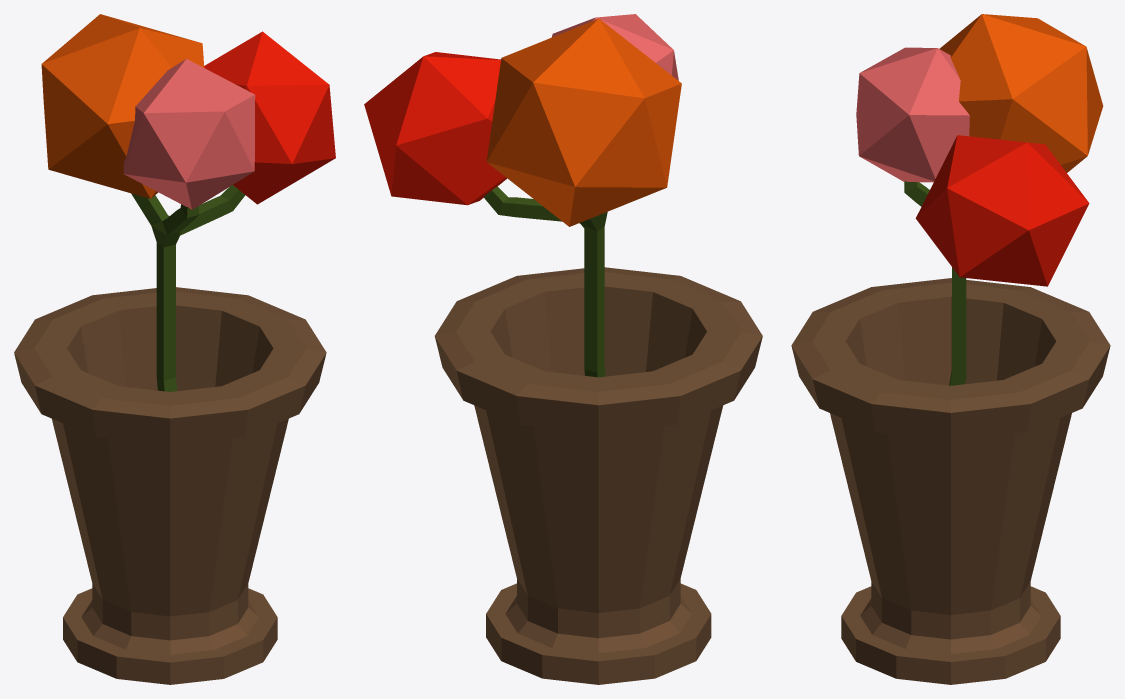
Rendered from Vase_unfractured.fbx.
3 renders of one model, left to right at view 1: azimuth 30°, elevation 25°; view 2: azimuth 150°, elevation 25°; view 3: azimuth 270°, elevation 25°, orthographic. The views are drawn at different scales.
Visible parts, largest first — view 1: Vase, Icosphere, Leaf_01, Leaf_02, Flower_Holder; view 2: Vase, Icosphere, Leaf_02, Flower_Holder, Leaf_01; view 3: Vase, Leaf_02, Icosphere, Leaf_01, Flower_Holder.
Part boxes in pixels (x1,y1,x2,y2): Vase: (14,287,326,684); Icosphere: (41,14,204,198); Leaf_01: (123,59,255,209); Leaf_02: (204,31,335,204); Flower_Holder: (131,185,245,391); Vase: (434,267,762,684); Icosphere: (486,18,681,226); Leaf_02: (364,52,506,205); Flower_Holder: (484,186,607,377); Leaf_01: (551,14,678,80); Vase: (791,278,1110,684); Leaf_02: (915,135,1089,286); Icosphere: (939,14,1103,172); Leaf_01: (856,47,969,182); Flower_Holder: (904,181,966,385).
Size of the model in its own units: 1.35 by 2.44 by 1.14.
